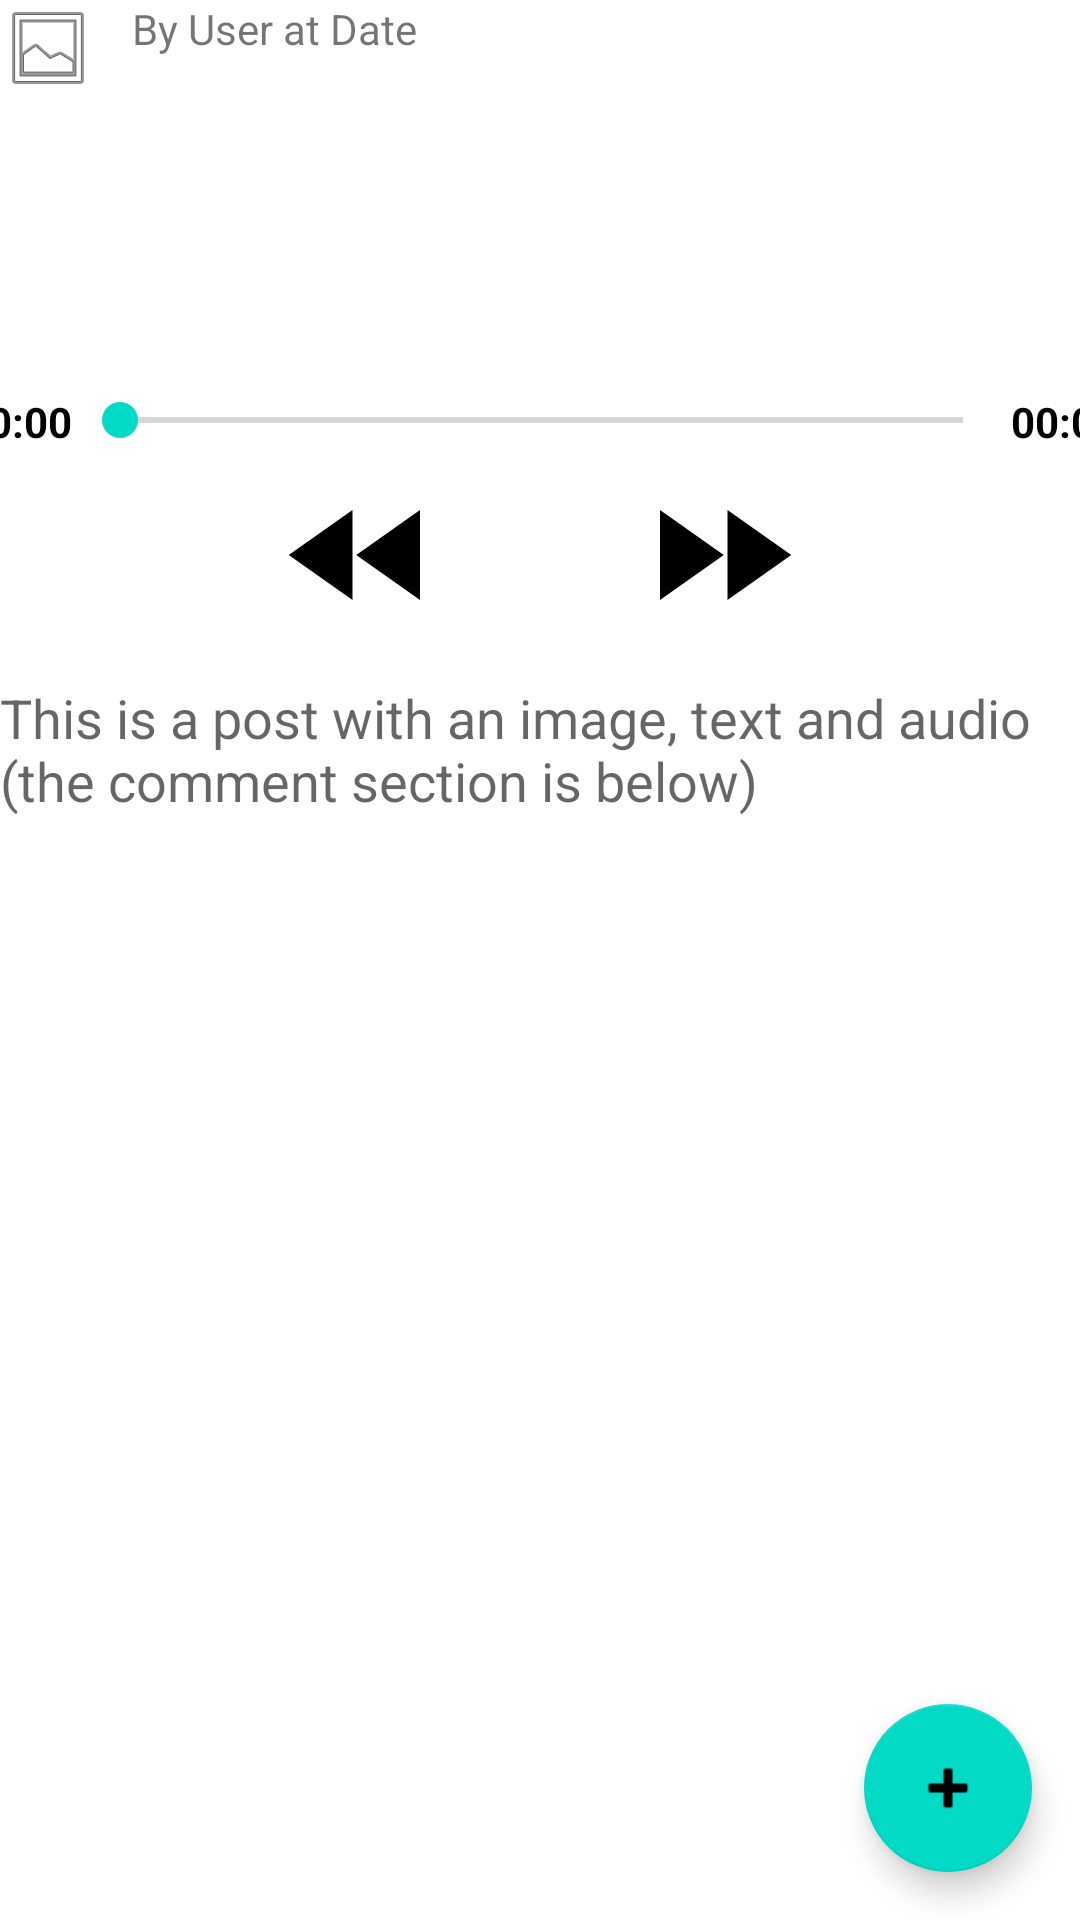

Screen size 1080 × 1920. Icon name, then its center in pixels as point (x, y):
add: point (948, 1788)
forward: point (725, 555)
gallery: point (48, 48)
rewind: point (354, 555)
